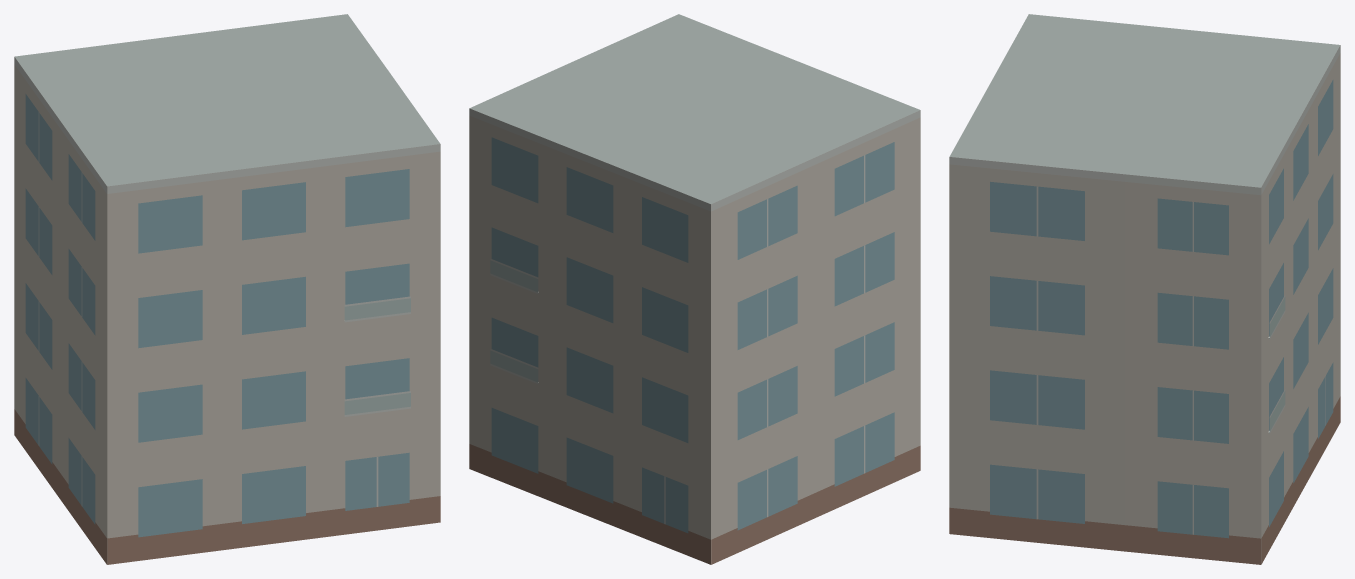
Rendered from residential-faeb437f-176f-4794-9b42-c19031d0985f.glb.
3 views of the same model, side by side, from view 1: azimuth 30°, elevation 25°; view 2: azimuth 150°, elevation 25°; view 3: azimuth 270°, elevation 25° (orthographic). The views are drawn at different scales.
Parts seen in each view (by area): view 1: residential-faeb437f-176f-4794-9b42-c19031d0985f.tmp; view 2: residential-faeb437f-176f-4794-9b42-c19031d0985f.tmp; view 3: residential-faeb437f-176f-4794-9b42-c19031d0985f.tmp.
Boxes of the visible parts, x1=… form: residential-faeb437f-176f-4794-9b42-c19031d0985f.tmp: x1=14, y1=14, x2=440, y2=564; residential-faeb437f-176f-4794-9b42-c19031d0985f.tmp: x1=469, y1=14, x2=920, y2=564; residential-faeb437f-176f-4794-9b42-c19031d0985f.tmp: x1=949, y1=14, x2=1340, y2=564.
Bounding box in the file's own units: 12.06 × 12.2 × 11.48.
